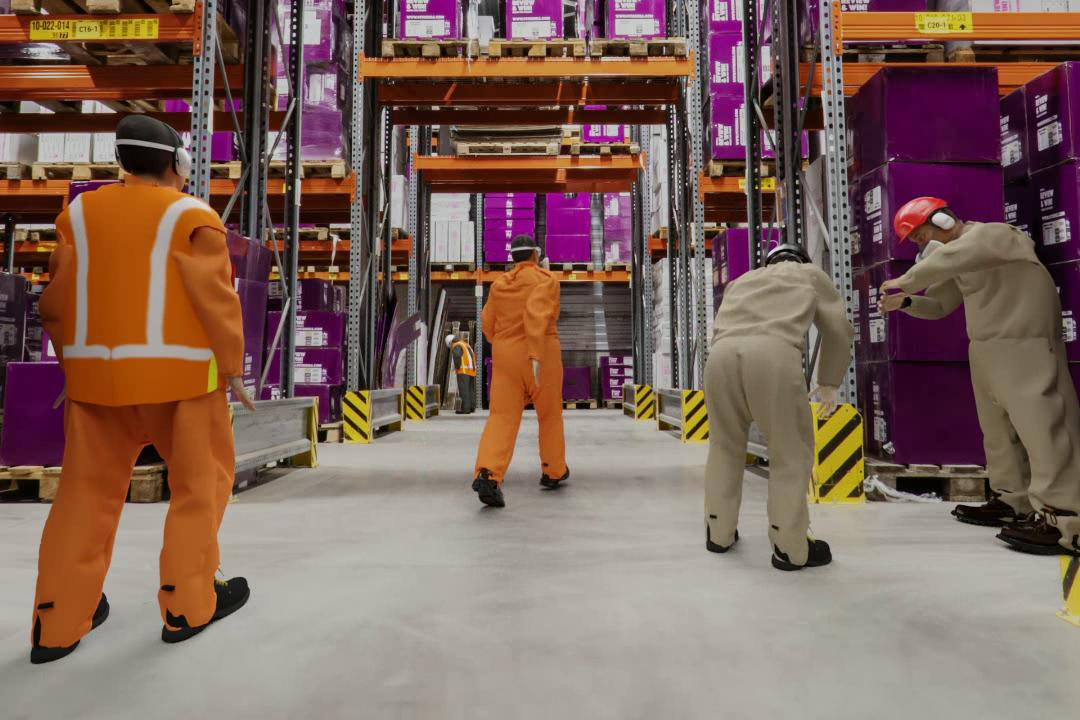Helmet: (880, 191, 957, 242), (745, 217, 813, 255), (442, 333, 455, 344)
Jacket: (62, 187, 211, 401), (451, 343, 473, 375)
Shoes: (23, 588, 112, 667), (160, 573, 253, 647), (999, 518, 1079, 560), (771, 535, 834, 574), (952, 491, 1027, 523), (541, 452, 576, 488), (469, 478, 513, 503), (455, 406, 474, 416)
